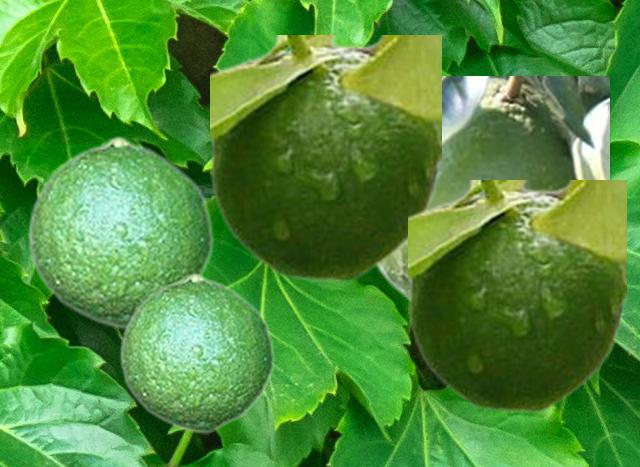dalandan: (210, 35, 440, 280), (375, 76, 608, 304), (408, 180, 625, 411), (26, 135, 213, 329), (118, 272, 274, 433)
